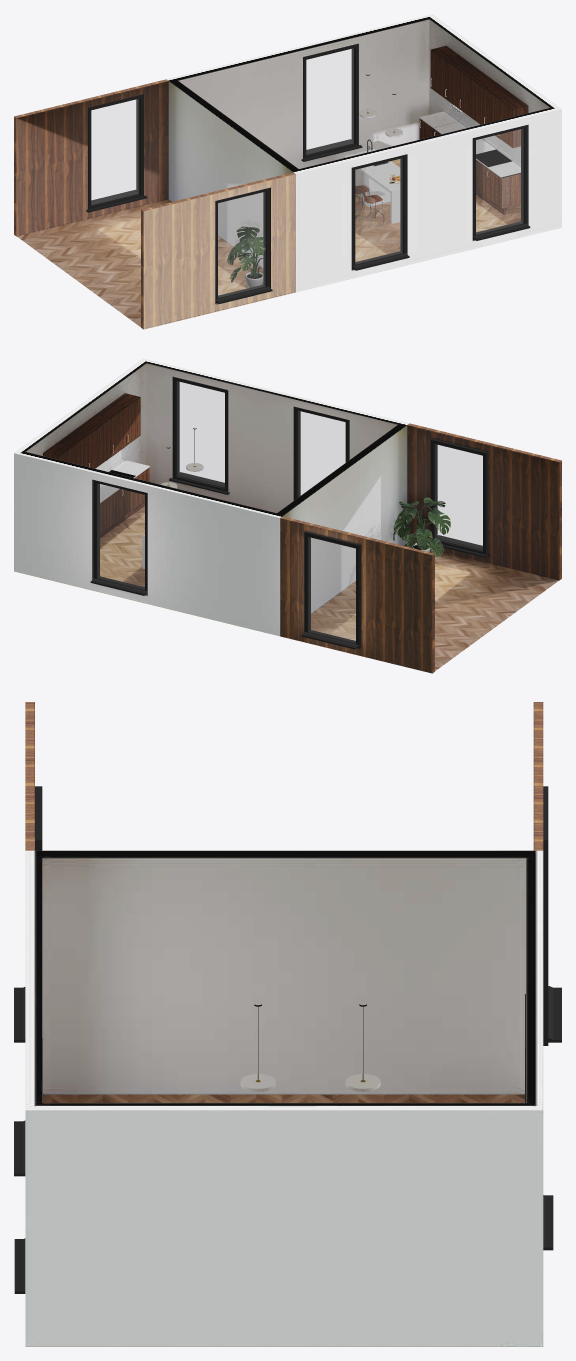
File: Kitchen-scene-transformed.glb
3 renders of one model, top to bottom at view 1: azimuth 30°, elevation 25°; view 2: azimuth 150°, elevation 25°; view 3: azimuth 270°, elevation 25°, orthographic. The views are drawn at different scales.
Visible parts, largest first — view 1: Room_Baked, Room.002_Baked, Room.001_Baked, Floor_Baked, Glass.003, Glass.001, Glass.004, Glass, Glass.002, Cabinet5_Door.001_Baked, Wall.001_Baked, Window.004 (+10 smaller); view 2: Room_Baked, Room.001_Baked, Room.002_Baked, Floor_Baked, Glass.003, Glass.004, Glass.001, Glass.002, Glass, Wall.001_Baked, Cabinet5_Door.001_Baked, Window.001 (+8 smaller); view 3: Room_Baked, Floor_Baked, Window.003, Room.001_Baked, Room.002_Baked, Window.002.
Boxes of the visible parts, x1,y1,x2,y2 form: Room_Baked: (166,14,561,292); Room.002_Baked: (141,172,295,329); Room.001_Baked: (14,79,168,236); Floor_Baked: (17,159,520,326); Glass.003: (91,99,138,204); Glass.001: (476,129,523,234); Glass.004: (306,48,353,153); Glass: (355,159,402,263); Glass.002: (218,192,265,297); Cabinet5_Door.001_Baked: (430,49,513,148); Wall.001_Baked: (429,19,549,204); Window.004: (301,43,362,161); Room_Baked: (14,358,409,636); Room.001_Baked: (280,516,434,673); Room.002_Baked: (407,423,561,580); Floor_Baked: (100,505,558,670); Glass.003: (308,537,355,642); Glass.004: (97,484,144,589); Glass.001: (177,382,224,487); Glass.002: (435,444,482,549); Glass: (298,411,345,496); Wall.001_Baked: (26,363,146,471); Cabinet5_Door.001_Baked: (57,397,140,468); Window.001: (169,377,229,494); Room_Baked: (25,850,543,1346); Floor_Baked: (43,1094,524,1102); Window.003: (543,786,561,1045); Room.001_Baked: (533,702,543,850); Room.002_Baked: (25,702,34,850); Window.002: (14,786,42,1042).
Bounding box in the file's own units: 10 × 2.71 × 5.67.
Materials: 46 (29 with a texture image).
